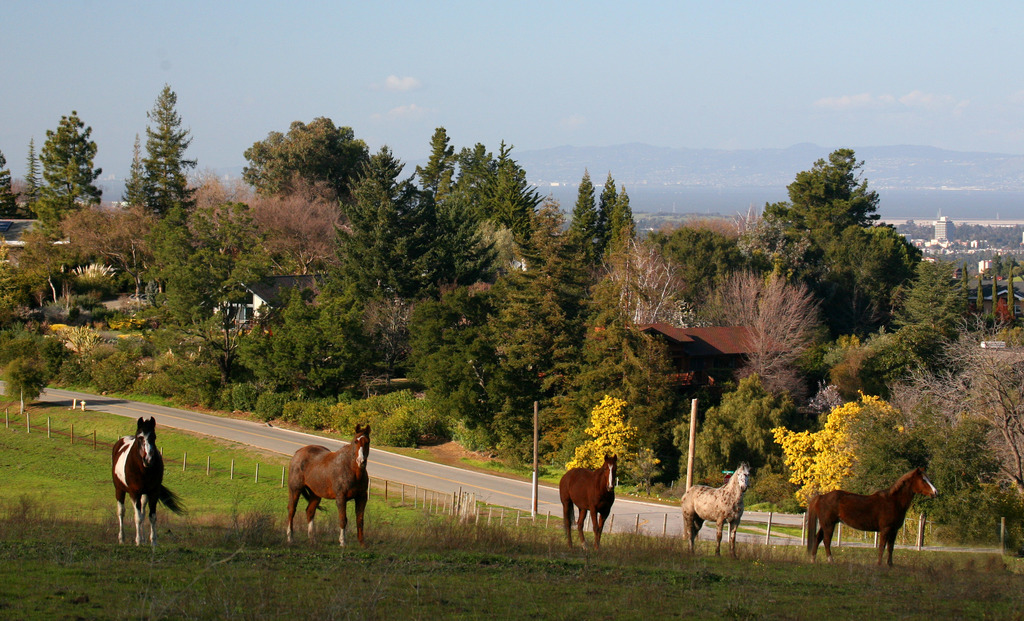horse: (801, 469, 934, 567), (285, 424, 369, 545), (112, 415, 184, 549), (678, 460, 751, 553), (557, 453, 617, 551)
